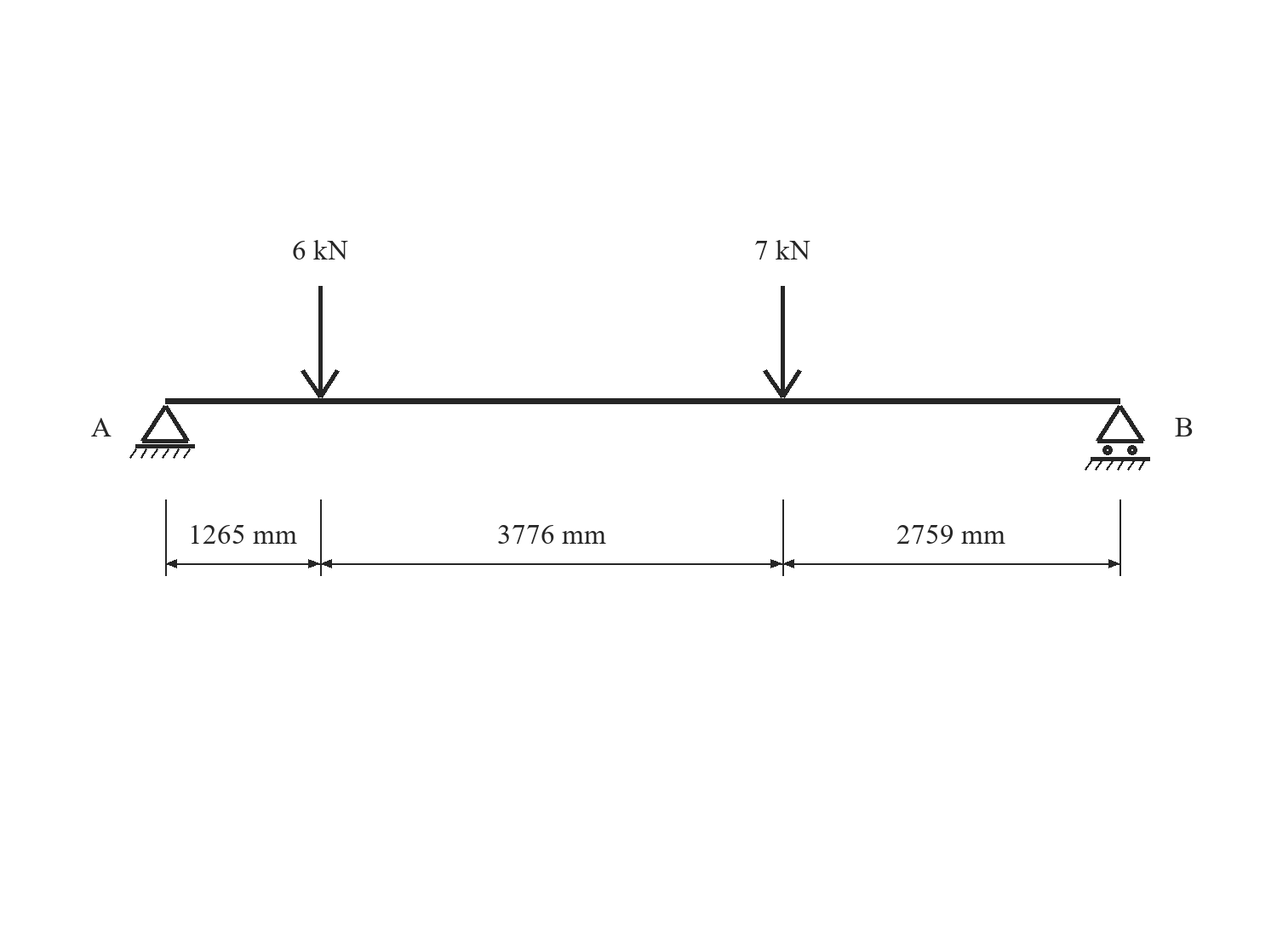pin_support: (129, 405, 195, 459)
point_load: (301, 286, 340, 398), (763, 286, 802, 398)
roller_support: (1085, 405, 1150, 471)
